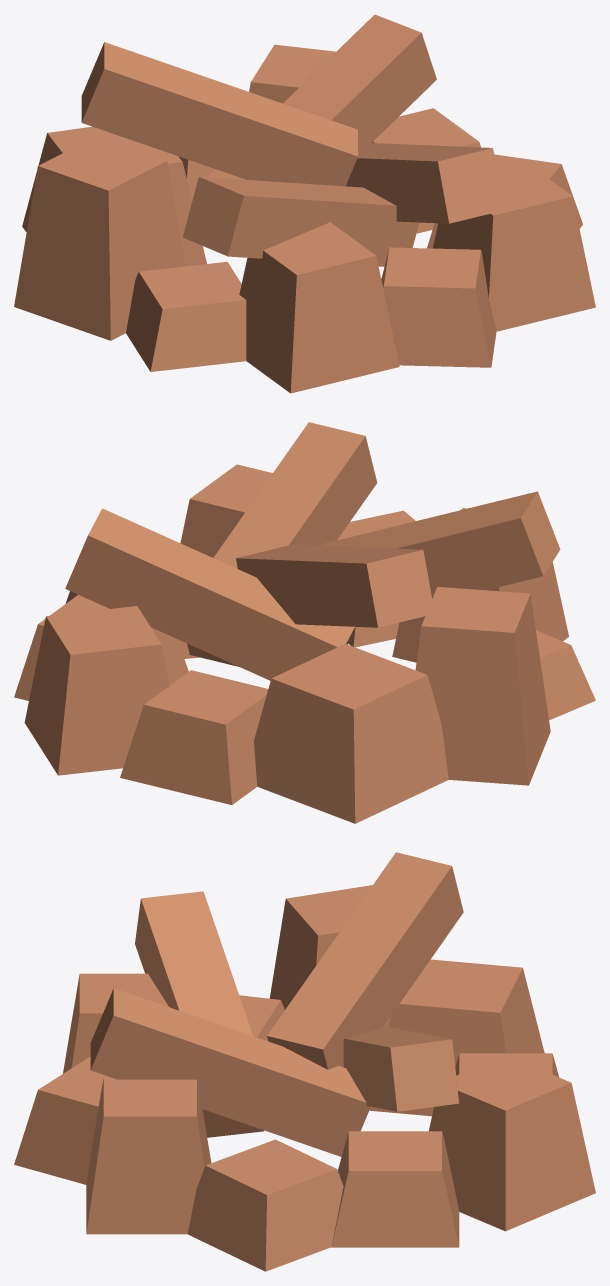
The model's file is campfire-pit.obj.
3 renders of one model, top to bottom at view 1: azimuth 30°, elevation 25°; view 2: azimuth 150°, elevation 25°; view 3: azimuth 270°, elevation 25°, orthographic. The views are drawn at different scales.
Size of the model in its own units: 0.2778 by 0.1091 by 0.2692.
